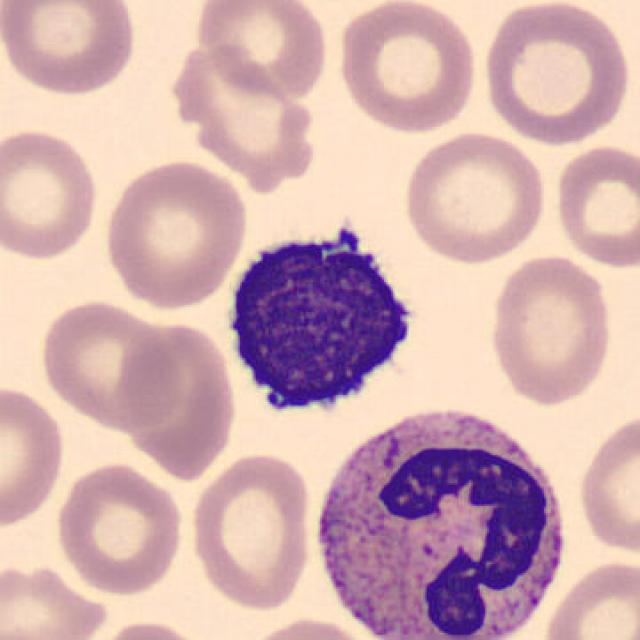Lymphocyte: (217, 217, 428, 430)
Neutrophil: (304, 395, 578, 640)
RBC: (100, 155, 250, 312), (171, 42, 326, 193), (476, 0, 634, 146), (185, 450, 316, 614), (483, 250, 617, 408), (398, 127, 550, 266), (34, 296, 185, 434), (332, 0, 482, 136), (52, 458, 186, 596), (192, 0, 331, 104), (0, 125, 103, 263), (0, 0, 142, 99), (551, 141, 638, 272), (0, 381, 68, 531), (574, 407, 638, 557), (0, 559, 110, 640), (539, 555, 638, 640), (238, 613, 382, 640), (87, 617, 212, 640)
